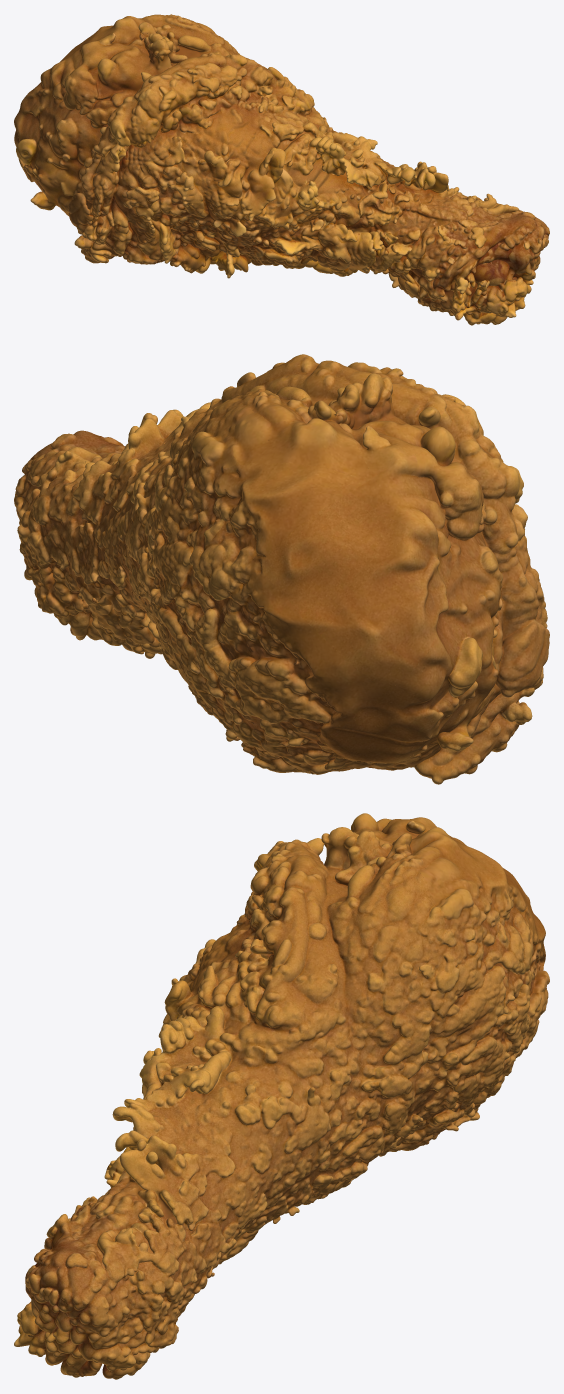
The model's file is Crispy-FriedChicken.original.glb.
3 renders of one model, top to bottom at view 1: azimuth 30°, elevation 25°; view 2: azimuth 150°, elevation 25°; view 3: azimuth 270°, elevation 25°, orthographic. The views are drawn at different scales.
Parts seen in each view (by area): view 1: mesh_node; view 2: mesh_node; view 3: mesh_node.
Boxes of the visible parts, x1,y1,x2,y2 form: mesh_node: (14,14,549,325); mesh_node: (14,354,549,784); mesh_node: (14,813,549,1379).
Size of the model in its own units: 1.9 by 1.24 by 1.58.
1 material, 1 textured.
